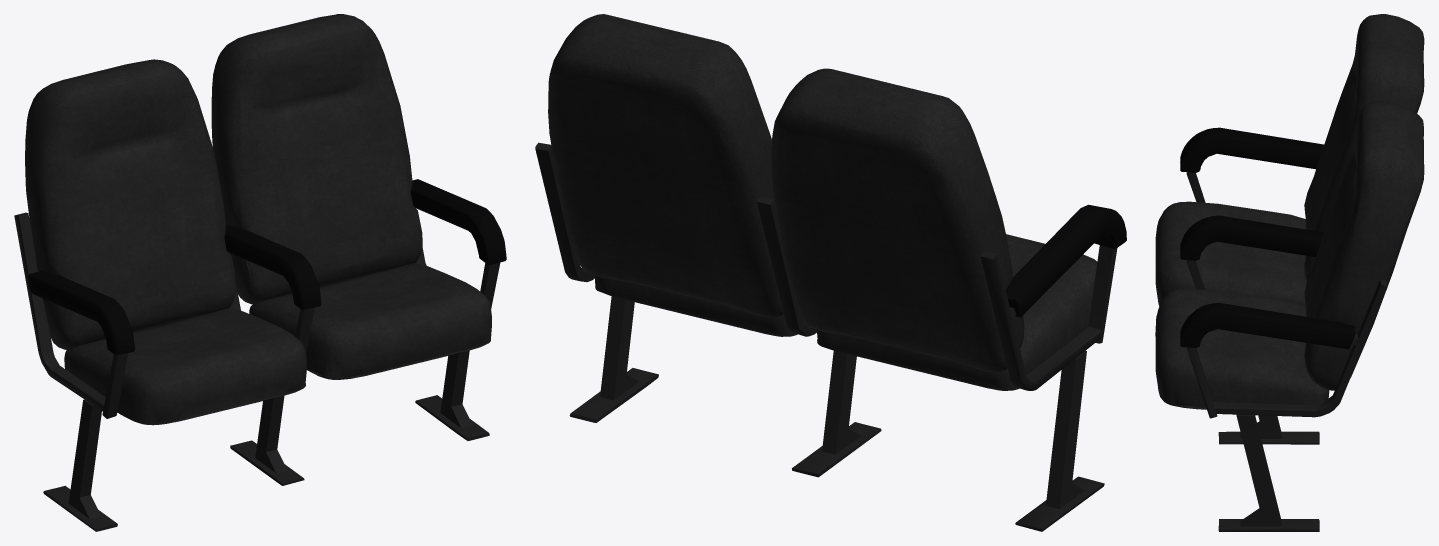
Rendered from Chairs 3.FBX.
The picture shows the model from 3 angles, left to right: view 1: azimuth 30°, elevation 25°; view 2: azimuth 150°, elevation 25°; view 3: azimuth 270°, elevation 25°; orthographic projection. The views are drawn at different scales.
Parts seen in each view (by area): view 1: Chairs 3; view 2: Chairs 3; view 3: Chairs 3.
Part boxes in pixels (<box>): Chairs 3: <box>14,14,506,531</box>; Chairs 3: <box>535,14,1126,531</box>; Chairs 3: <box>1155,14,1424,531</box>.
Bounding box in the file's own units: 101 × 90.94 × 61.86.
Materials: 3 (1 with a texture image).
